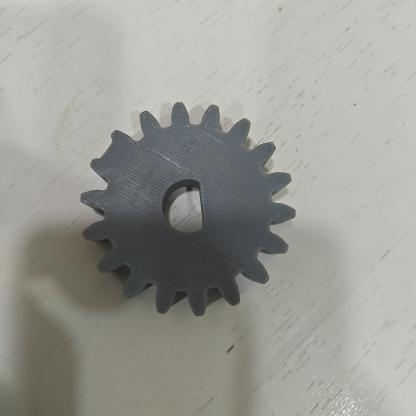defect: (88, 120, 134, 181), (187, 173, 228, 239)
gear: (80, 102, 296, 315)
